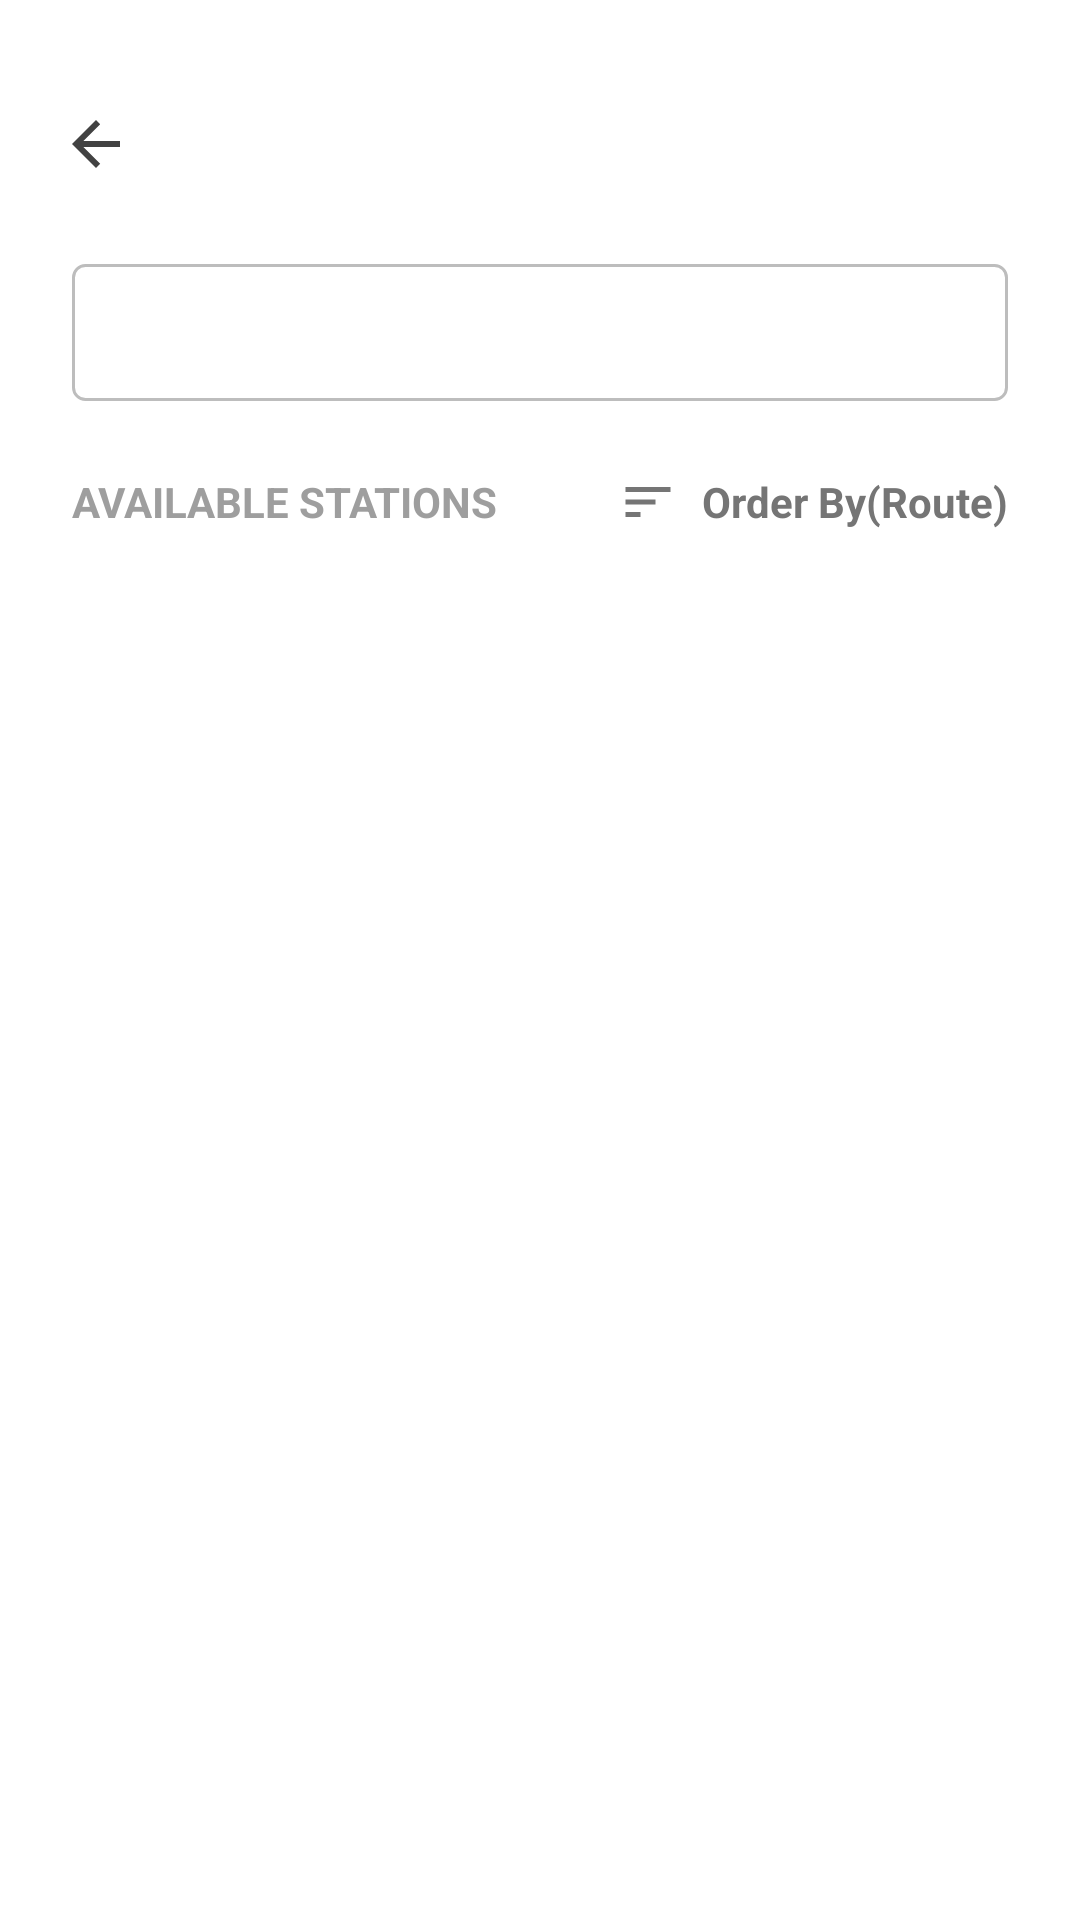

Screen size 1080x1920. Icon name, then its box in pixels as (x1, y1, x2, y2):
sort: (625, 487, 671, 517)
